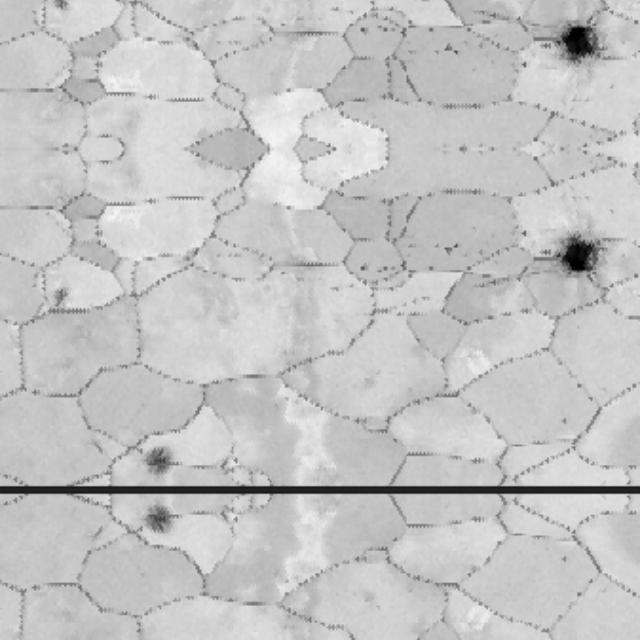good_void: (551, 225, 607, 285), (551, 14, 607, 73), (138, 442, 181, 481), (138, 501, 181, 540), (45, 279, 74, 316), (443, 239, 462, 262), (443, 36, 462, 59), (49, 0, 74, 16), (518, 224, 536, 243), (518, 55, 536, 74), (557, 416, 569, 430), (557, 552, 569, 566), (357, 24, 368, 38), (357, 261, 368, 274)
